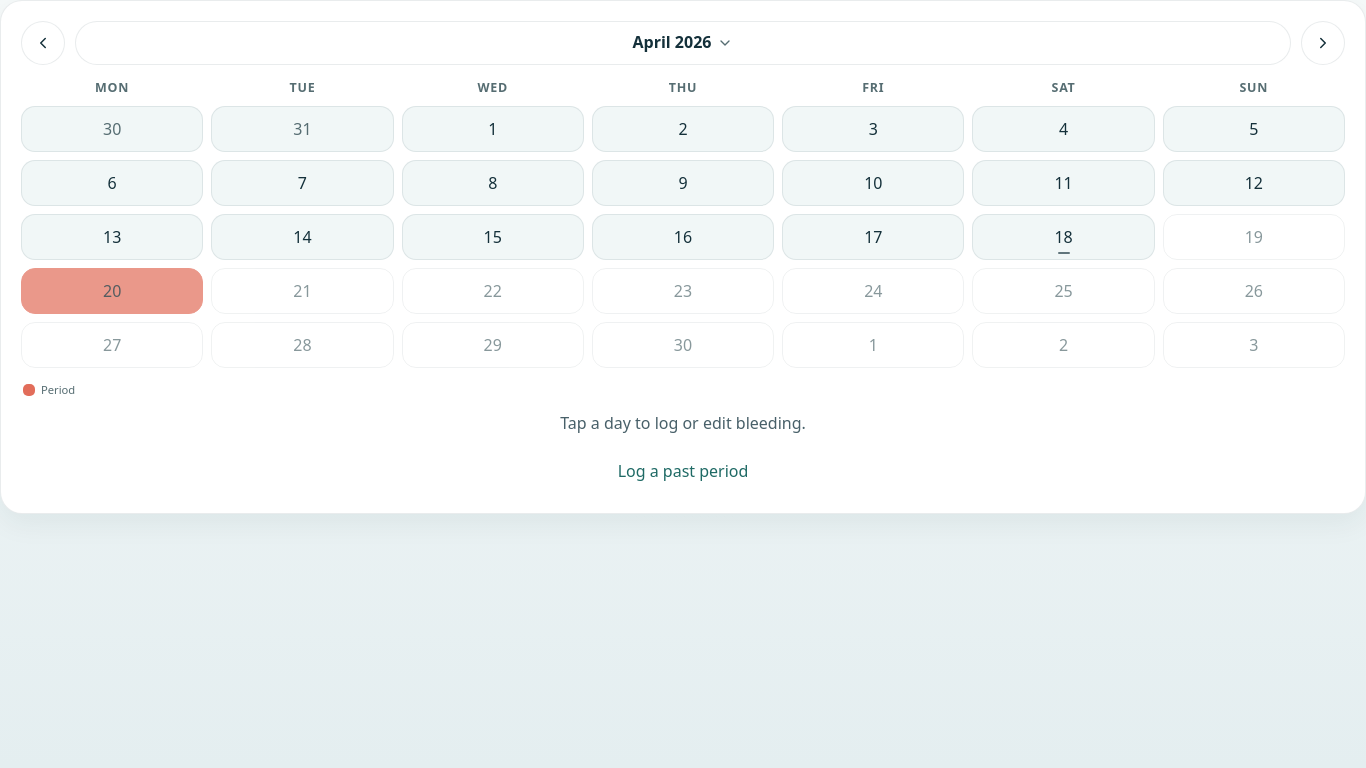
CalendarScreen › changes the visible month from the month-year picker
Step 1. Click the button "April 2026" → click(683, 43), box [75,21,1291,65]
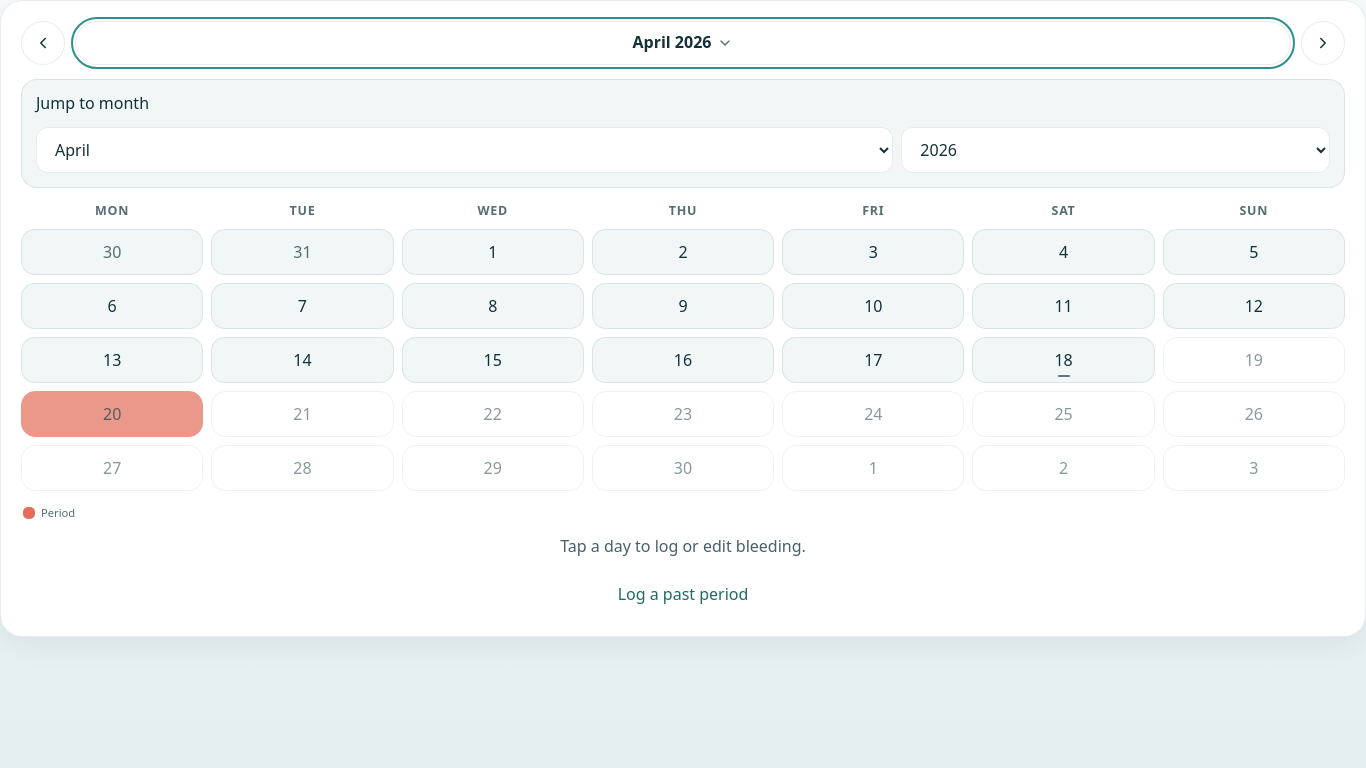
# The panel stays open across both picks so month and year can be set apart.
Step 2. Select "2025" in the dropdown named "Year" → (1116, 150), box [901,127,1330,173]
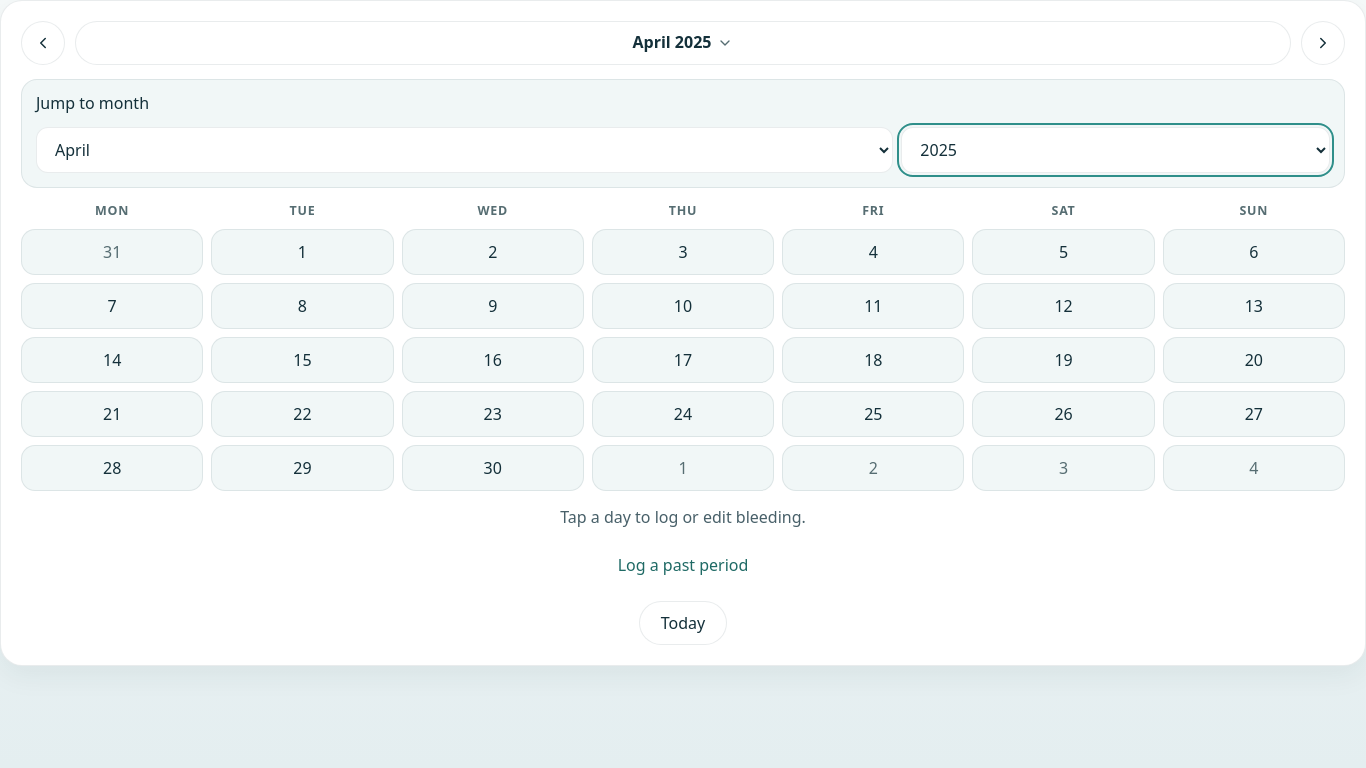
Step 3. Select "March" in the dropdown named "Month" → (465, 150), box [36,127,893,173]
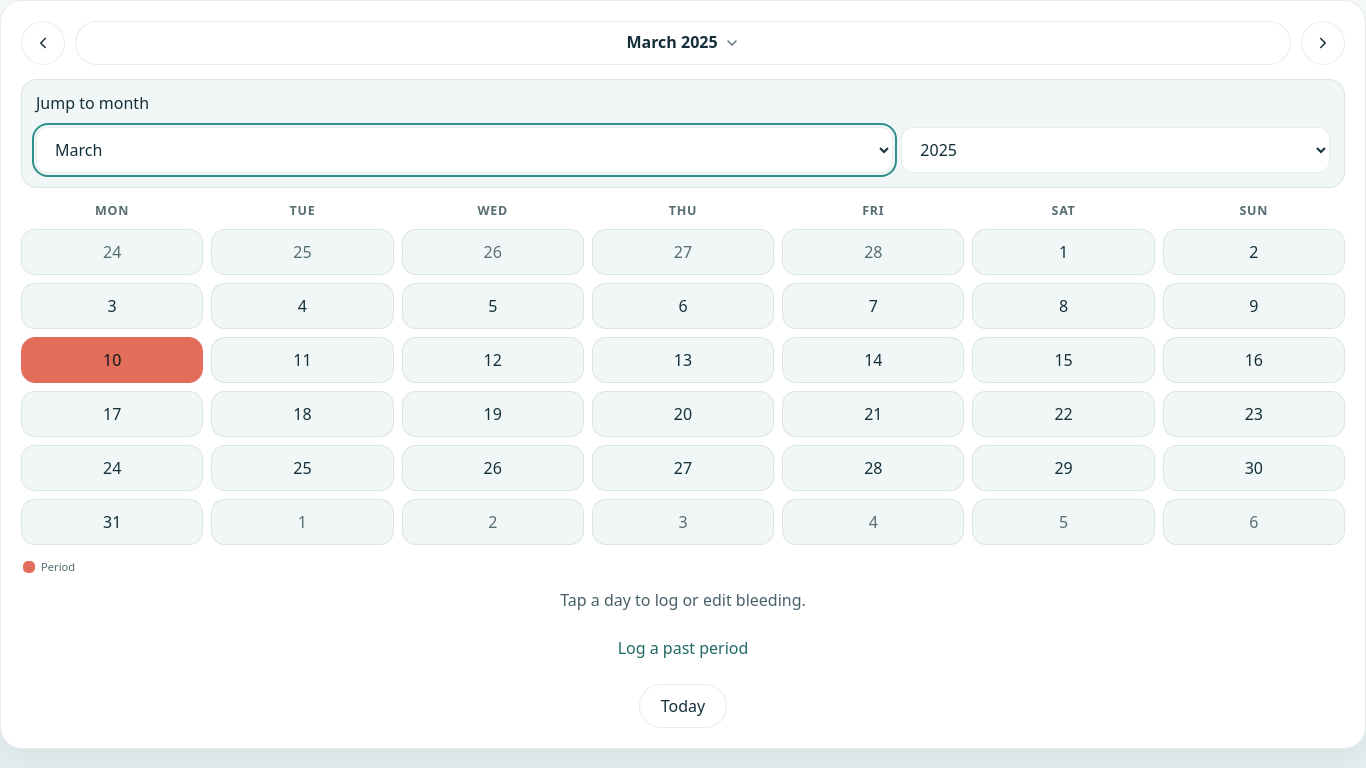
Check: the button "March 2025" is shown, box [75,21,1291,65]
